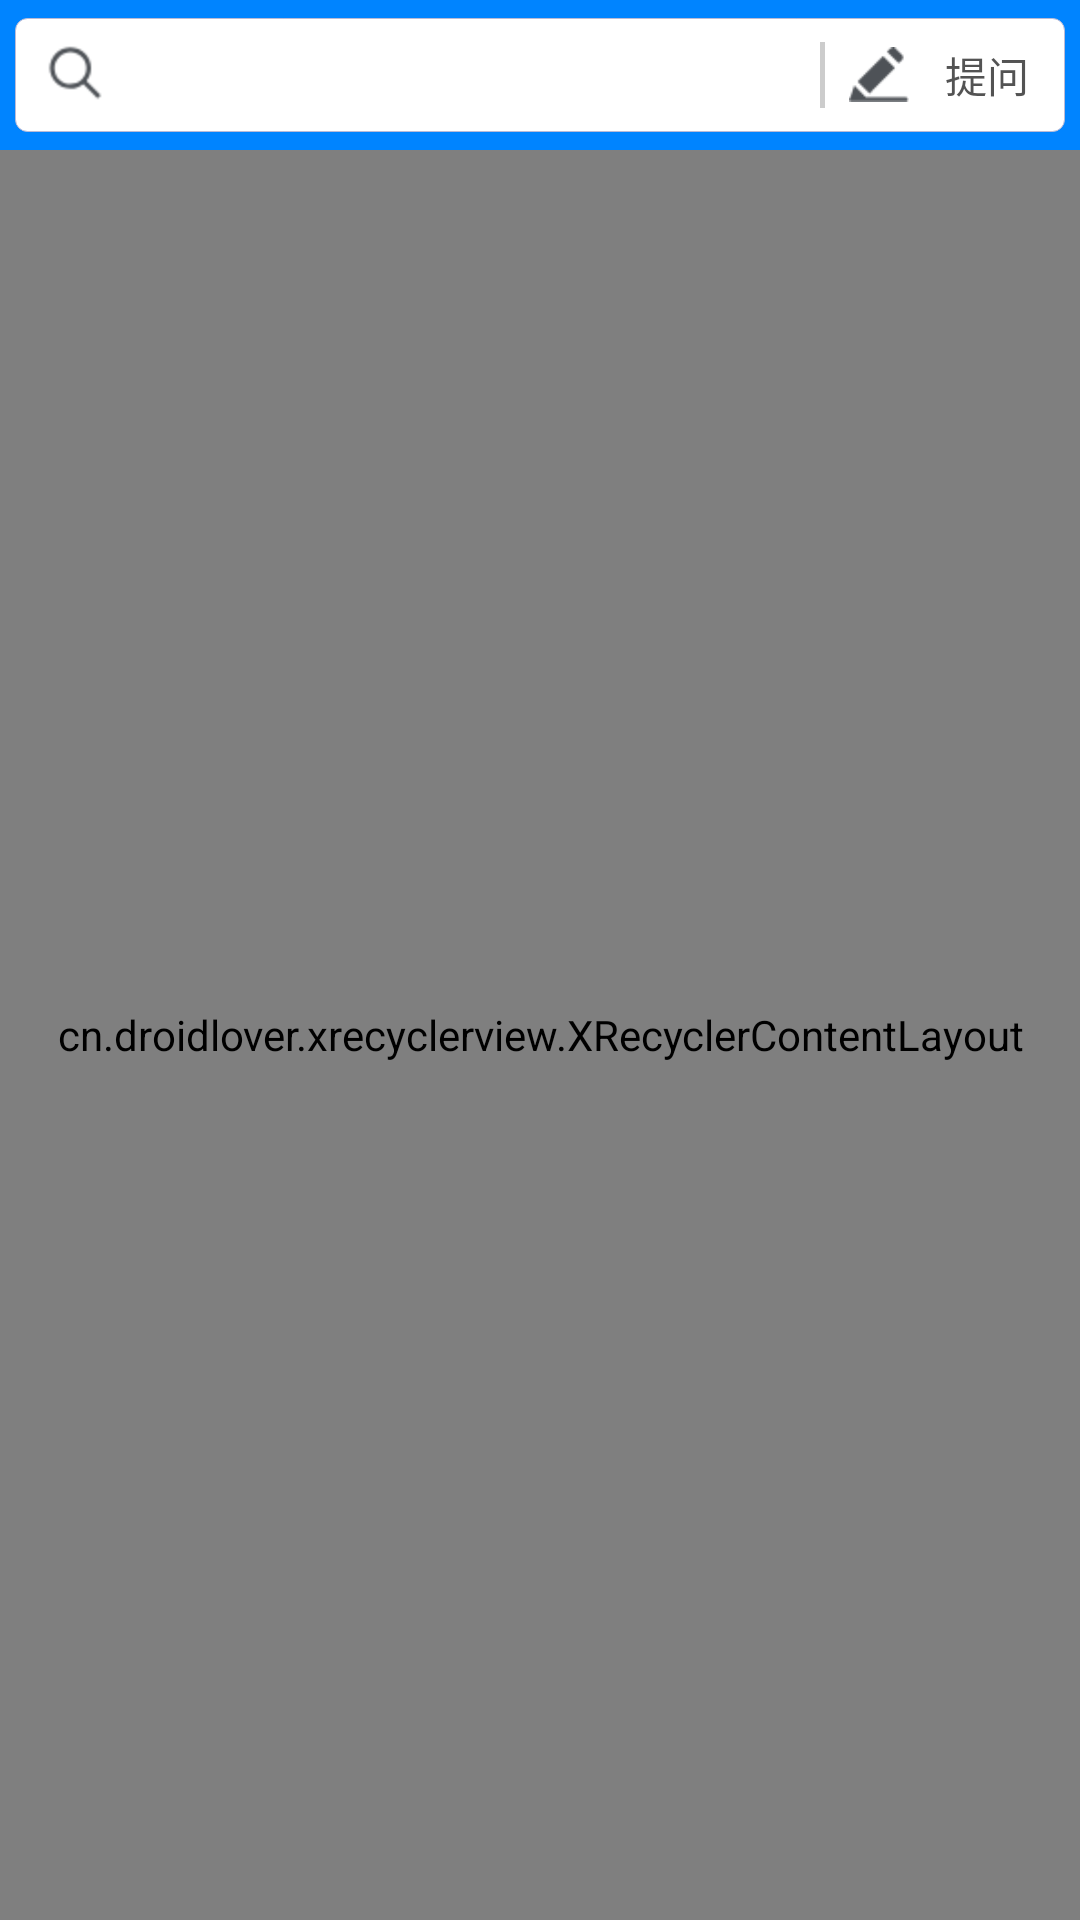

Point at icon controls on the screen. Image size 1080 × 1920, points as point (x, y).
search: point (75, 72)
